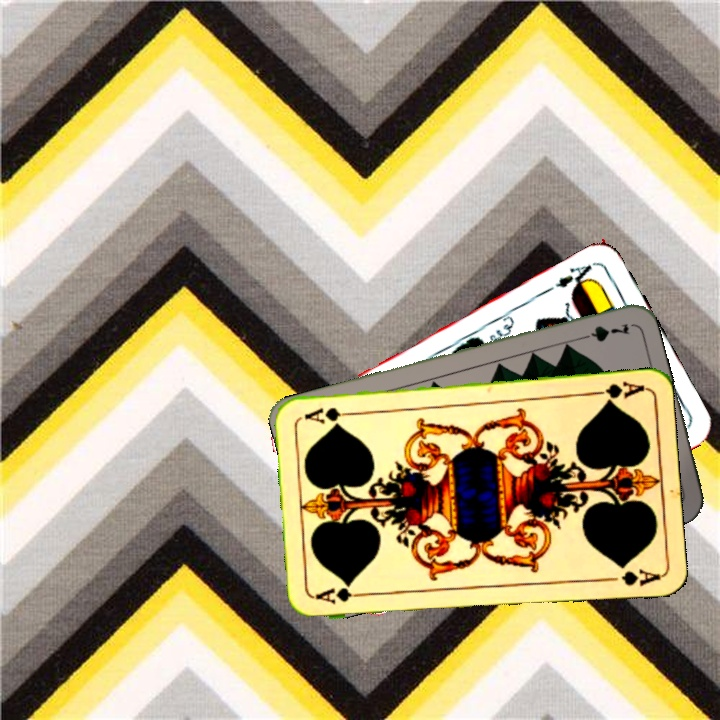EA: (551, 258, 598, 293)
G7: (573, 319, 632, 345)
GA: (587, 377, 646, 406), (312, 585, 371, 607)
